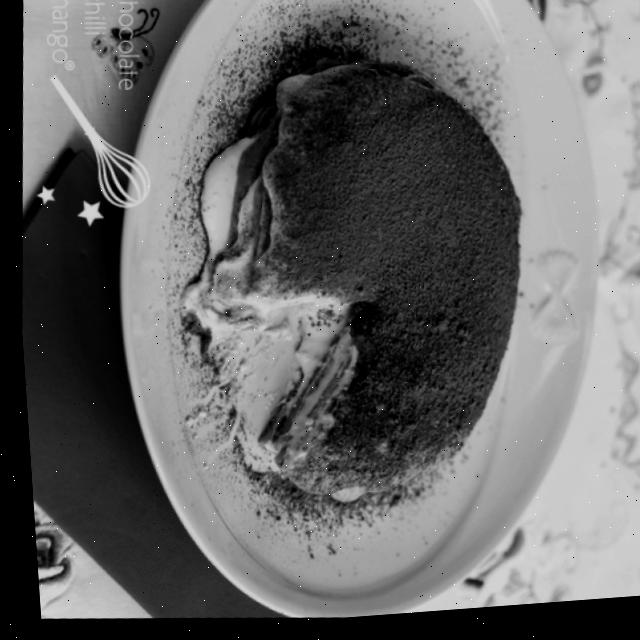蛋糕甜品: (69, 0, 622, 619)
